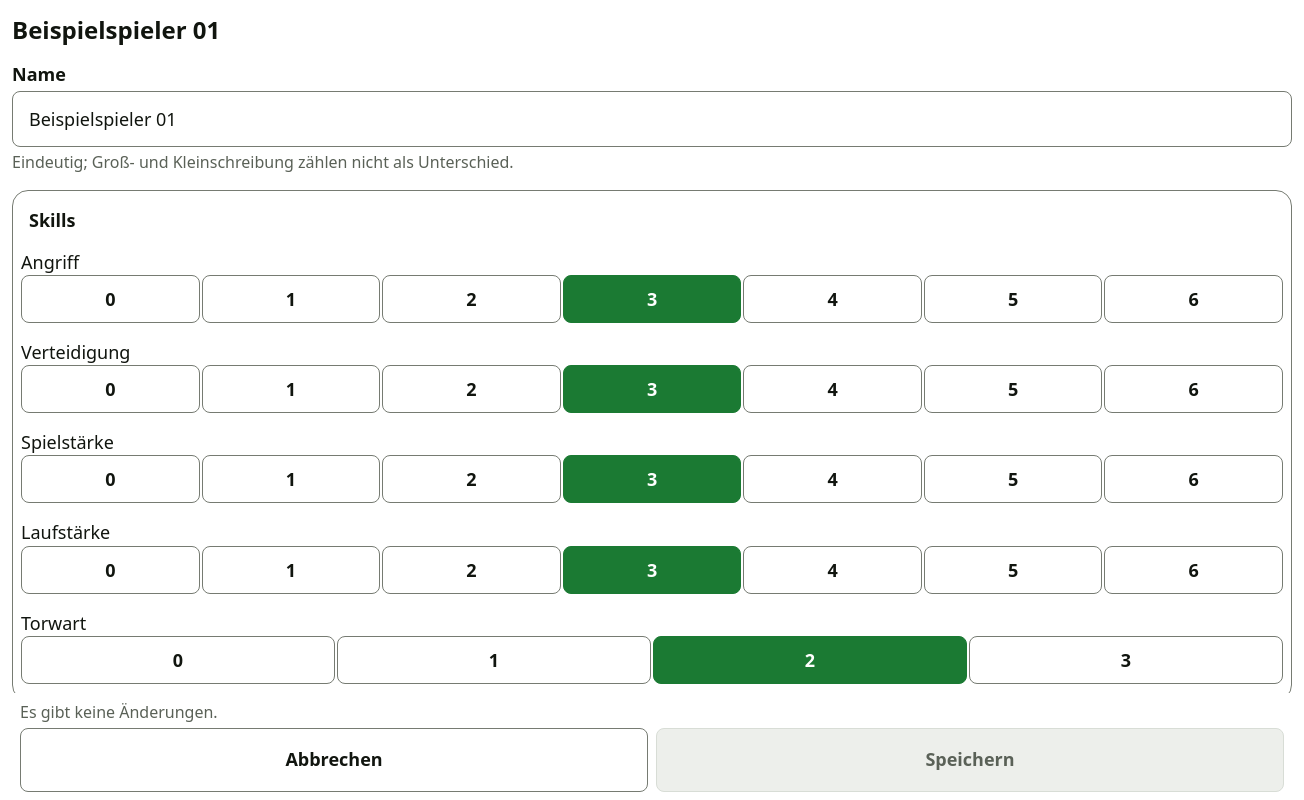
Test case: Bearbeiten › 409 NAME_BELEGT: Text am Namensfeld, Fokus dort
The width and height of the screenshot is (1304, 800).
Check: the element with test id "skill-ANGRIFF" is shown, box left=13, top=249, right=1291, bottom=323
Replace the text in the field with test id "admin-profil-name" with "beispielspieler 02" at (652, 119), box left=12, top=91, right=1292, bottom=147
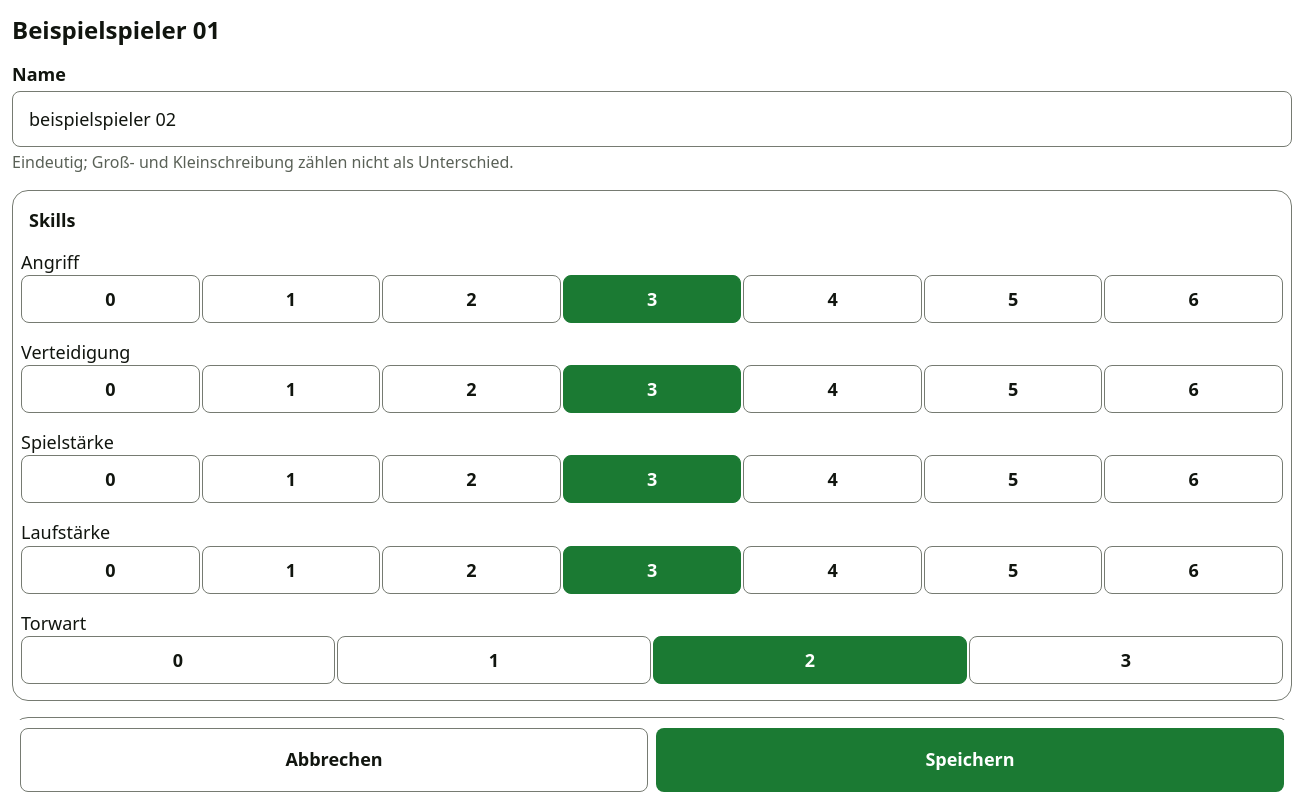
Click the button with test id "admin-profil-speichern" at (970, 760), box left=656, top=728, right=1284, bottom=792
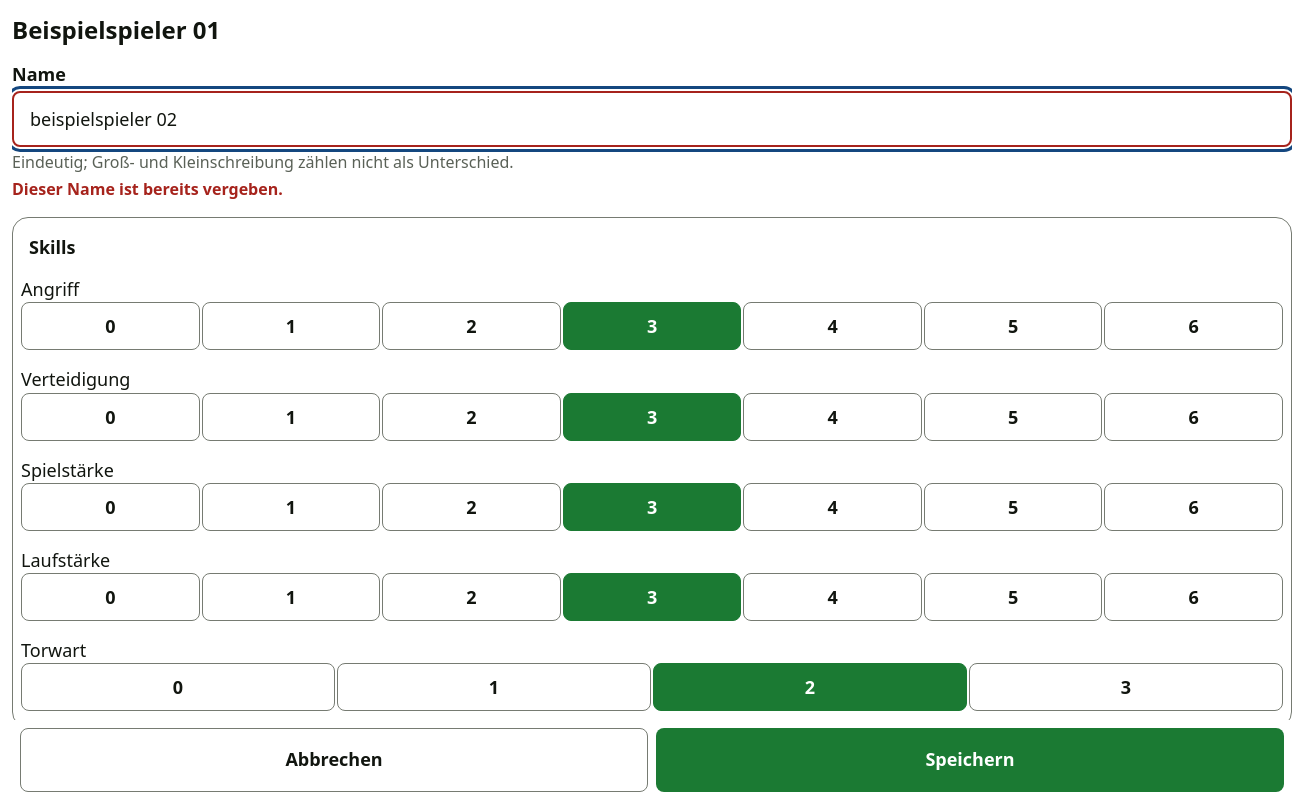
Check: the text with test id "admin-profil-name-fehler" reads "Dieser Name ist bereits vergeben.", box left=12, top=178, right=283, bottom=200
